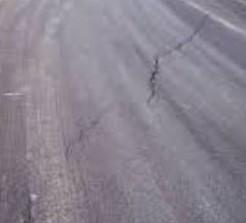crack: (147, 9, 219, 106), (65, 97, 123, 159)
